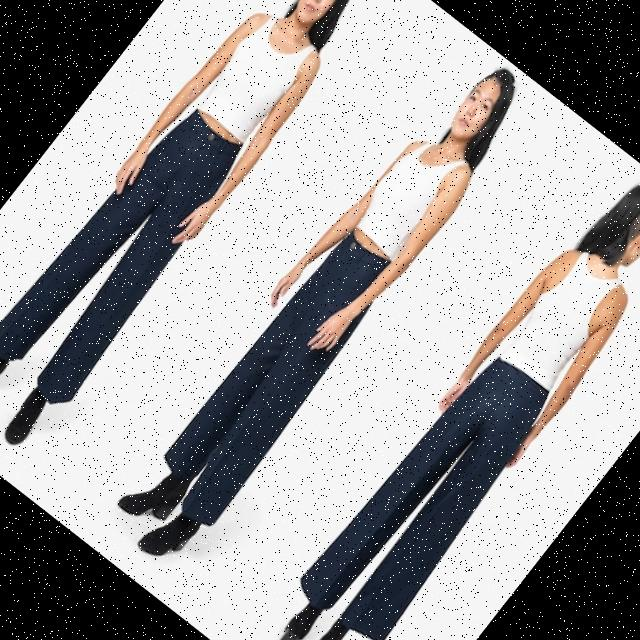Person: (96, 38, 546, 575), (251, 160, 640, 640), (0, 0, 398, 457)
